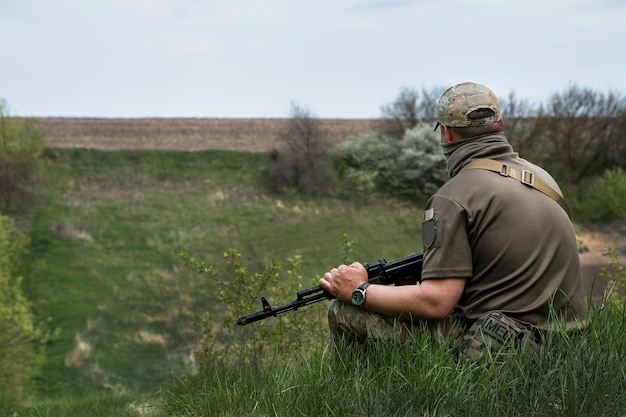gun: (235, 248, 424, 326)
